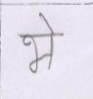e_matra: (39, 13, 58, 33)
